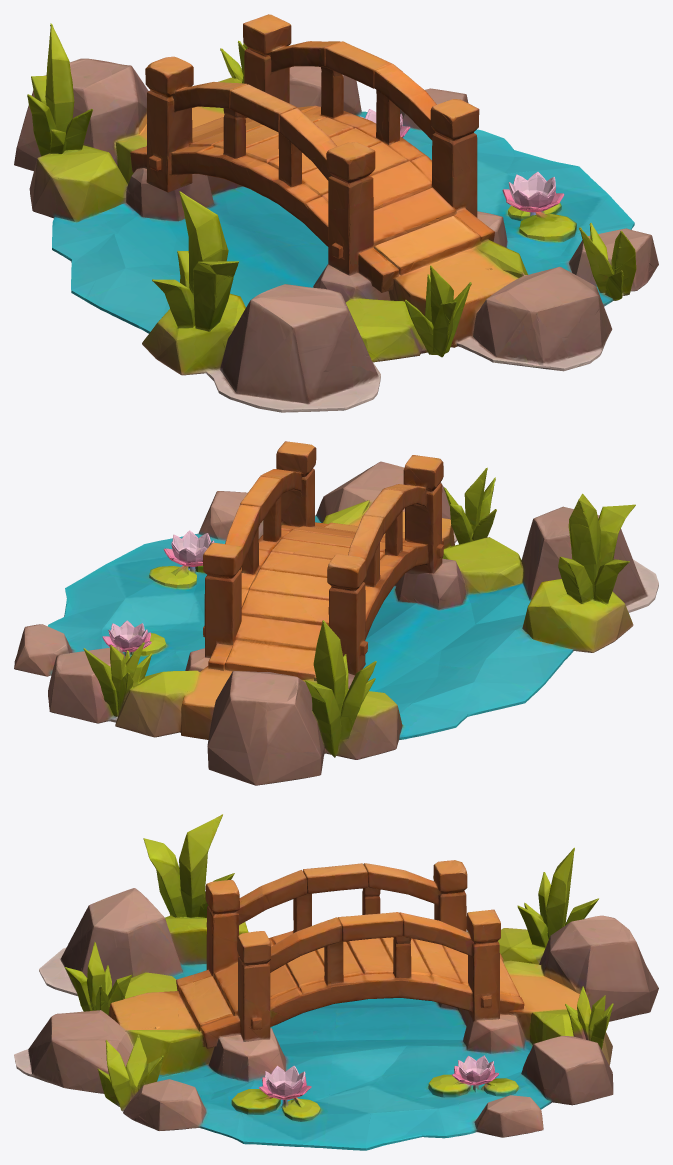
Rendered from KeepSakePond.glb.
3 renders of one model, top to bottom at view 1: azimuth 30°, elevation 25°; view 2: azimuth 150°, elevation 25°; view 3: azimuth 270°, elevation 25°, orthographic. The views are drawn at different scales.
Visible parts, largest first — view 1: tripo_node_f258d44f-e30e-4e2a-bdb7-5318c9a357ed; view 2: tripo_node_f258d44f-e30e-4e2a-bdb7-5318c9a357ed; view 3: tripo_node_f258d44f-e30e-4e2a-bdb7-5318c9a357ed.
Boxes of the visible parts, left/top/right/bottom form: tripo_node_f258d44f-e30e-4e2a-bdb7-5318c9a357ed: left=14, top=14, right=658, bottom=412; tripo_node_f258d44f-e30e-4e2a-bdb7-5318c9a357ed: left=14, top=441, right=658, bottom=785; tripo_node_f258d44f-e30e-4e2a-bdb7-5318c9a357ed: left=14, top=814, right=658, bottom=1150.
Bounding box in the file's own units: 0.7895 × 0.2382 × 0.9816.
Materials: 1 (1 with a texture image).
